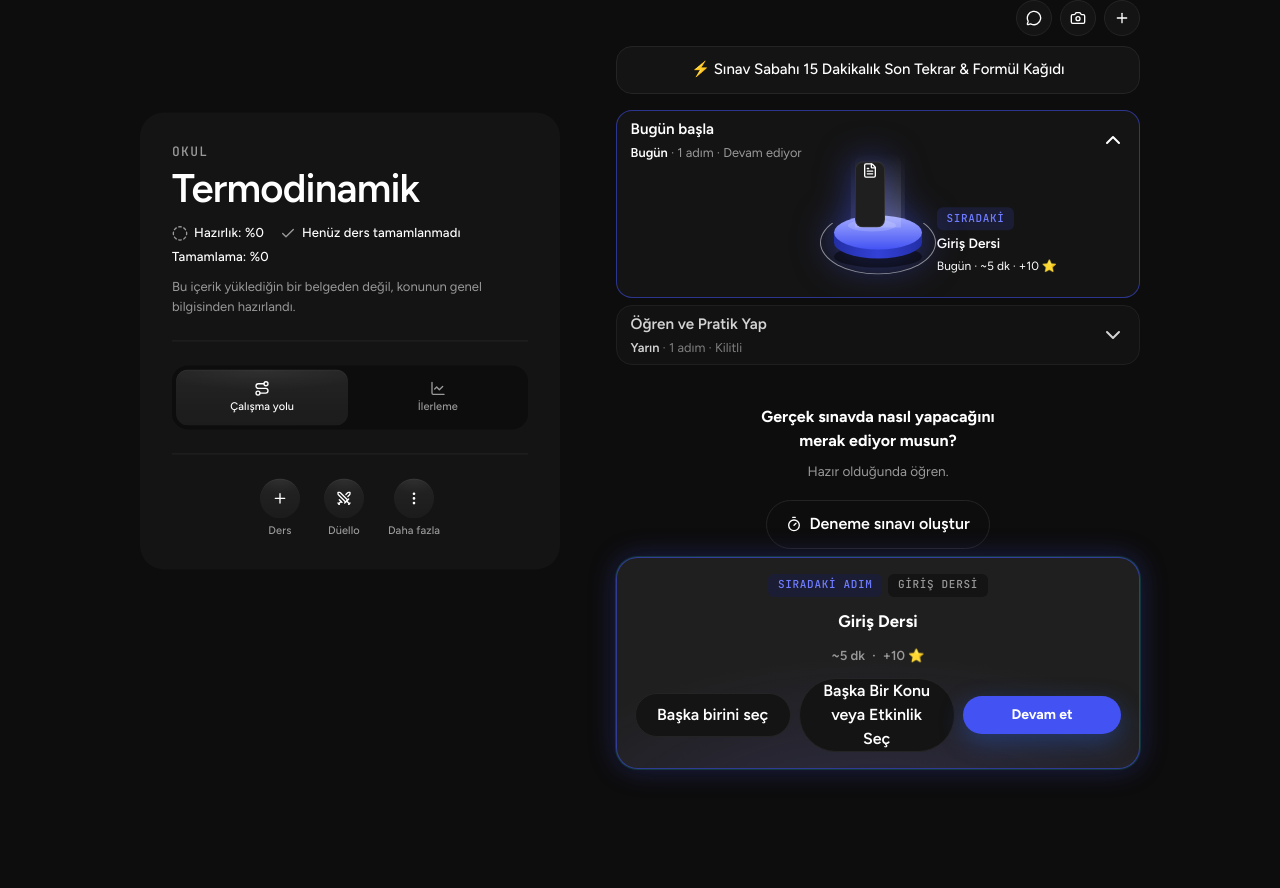
Test case: exam prep home path (Astra düzeni, 29 Eylül 2026) › shows the Astra progress view: score, target, sub-tabs and topics
Click the tab "İlerleme" at {"x": 438, "y": 398}, box [352,370,524,426]
(page scrolled)
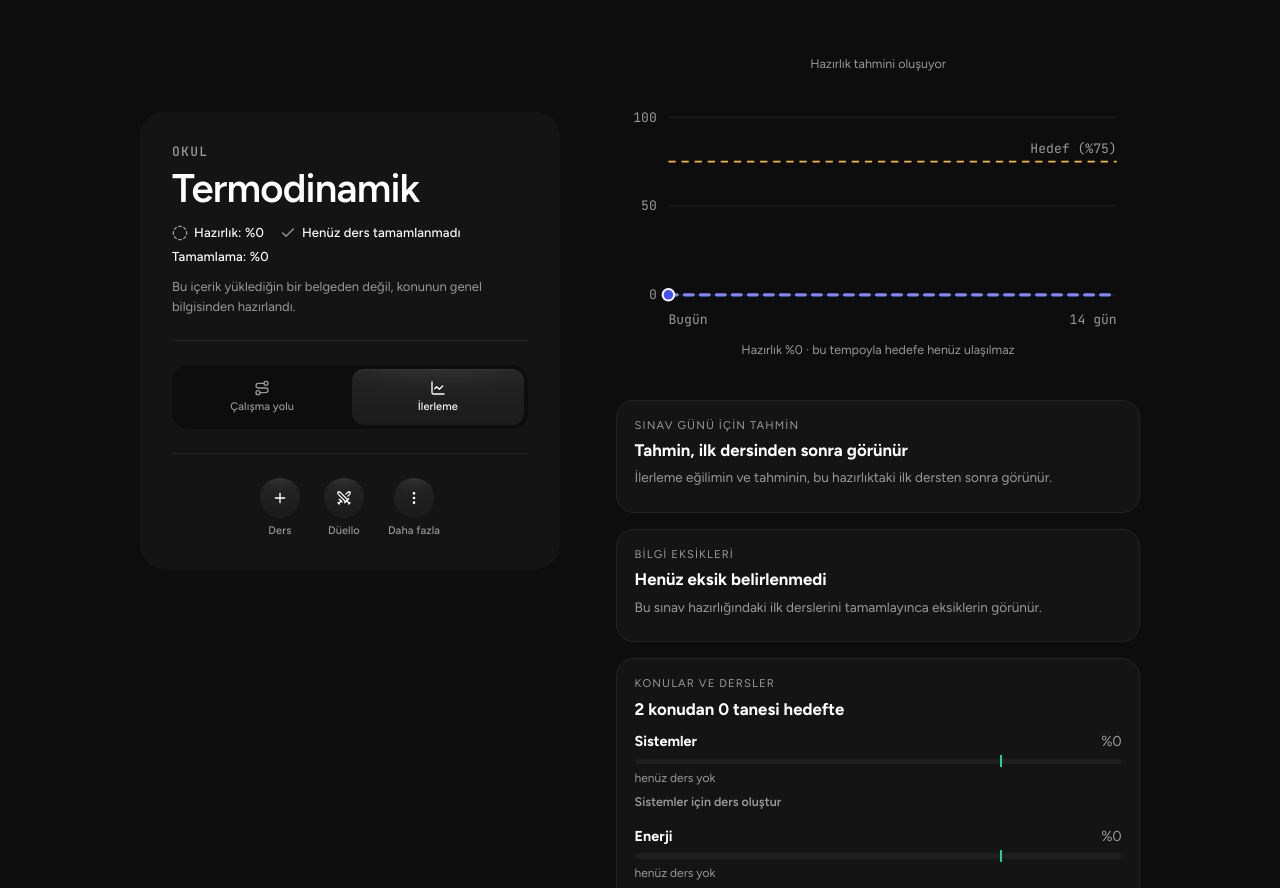
expect the text "Sistemler" is shown: met, box [635,731,697,753]
expect the text "Enerji" is shown: met, box [635,826,673,848]
expect the heading "Tahmin, ilk dersinden sonra görünür" is shown: met, box [635,440,908,460]
